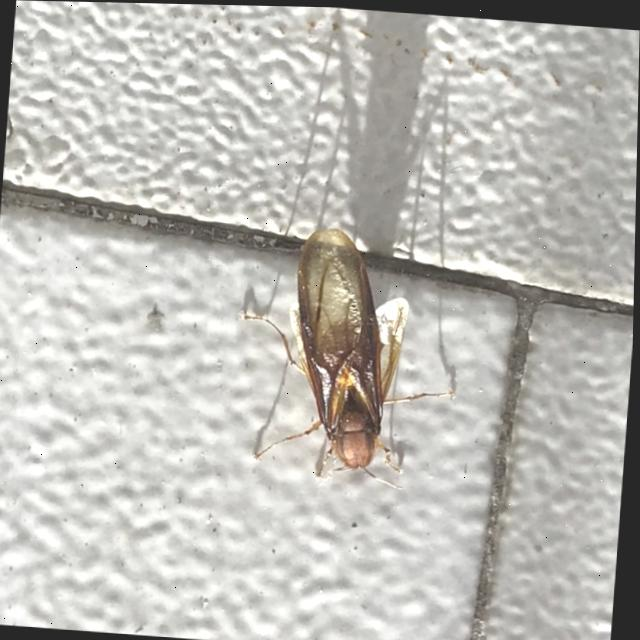Alive-Male-Alate: (226, 220, 470, 493)
